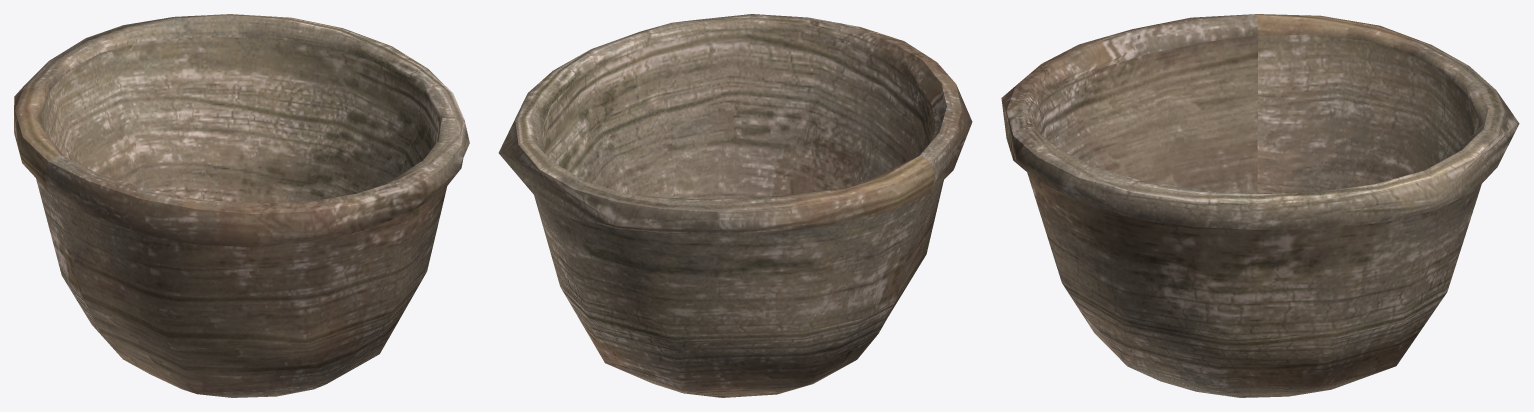
Rendered from SM_Plate_02.fbx.
3 renders of one model, left to right at view 1: azimuth 30°, elevation 25°; view 2: azimuth 150°, elevation 25°; view 3: azimuth 270°, elevation 25°, orthographic. The views are drawn at different scales.
Visible parts, largest first — view 1: SM_Plate_02_LOD0; view 2: SM_Plate_02_LOD0; view 3: SM_Plate_02_LOD0.
Boxes of the visible parts, x1=… form: SM_Plate_02_LOD0: x1=14, y1=14, x2=469, y2=397; SM_Plate_02_LOD0: x1=498, y1=14, x2=972, y2=397; SM_Plate_02_LOD0: x1=1001, y1=14, x2=1519, y2=397.
Size of the model in its own units: 22.6 by 25.69 by 13.64.
1 material, 1 textured.
